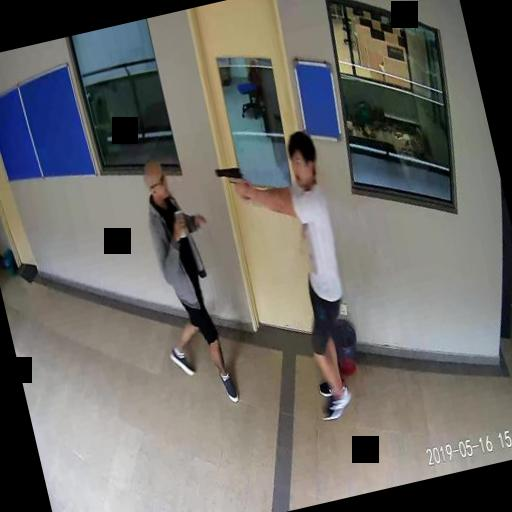Handgun: (210, 157, 256, 208)
